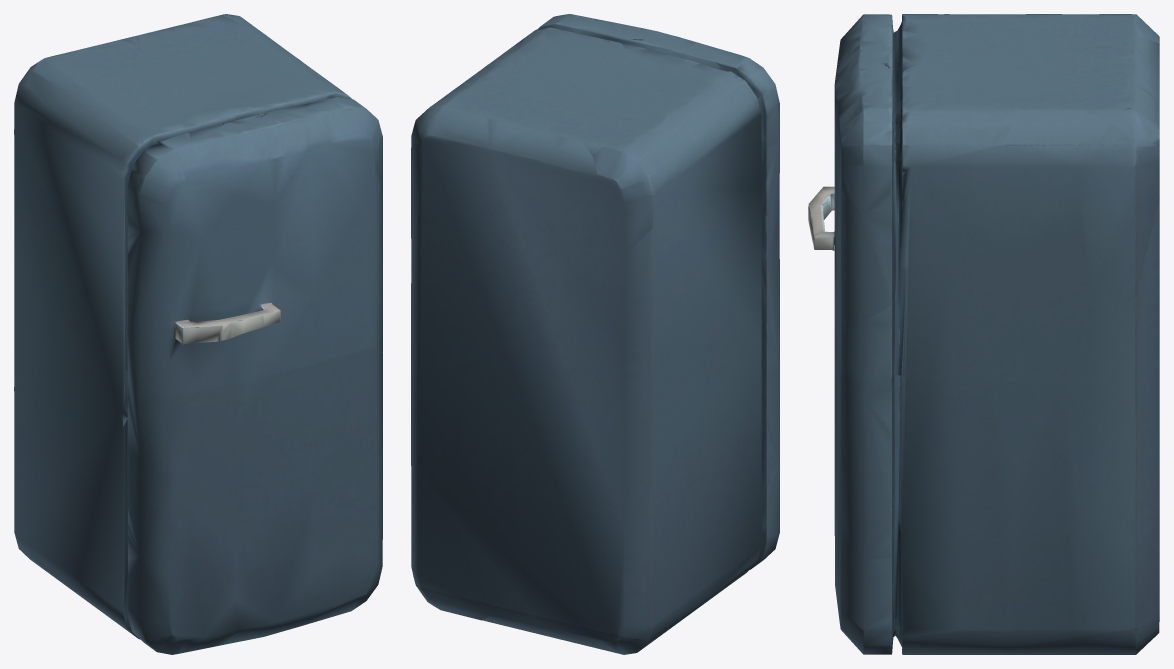
File: fridge.glb
3 renders of one model, left to right at view 1: azimuth 30°, elevation 25°; view 2: azimuth 150°, elevation 25°; view 3: azimuth 270°, elevation 25°, orthographic. The views are drawn at different scales.
Parts seen in each view (by area): view 1: Mesh_0; view 2: Mesh_0; view 3: Mesh_0.
Part boxes in pixels (<box>): Mesh_0: <box>14,14,382,654</box>; Mesh_0: <box>411,14,779,654</box>; Mesh_0: <box>808,14,1159,654</box>.
Size of the model in its own units: 0.9521 by 1.91 by 1.11.
1 material, 1 textured.
